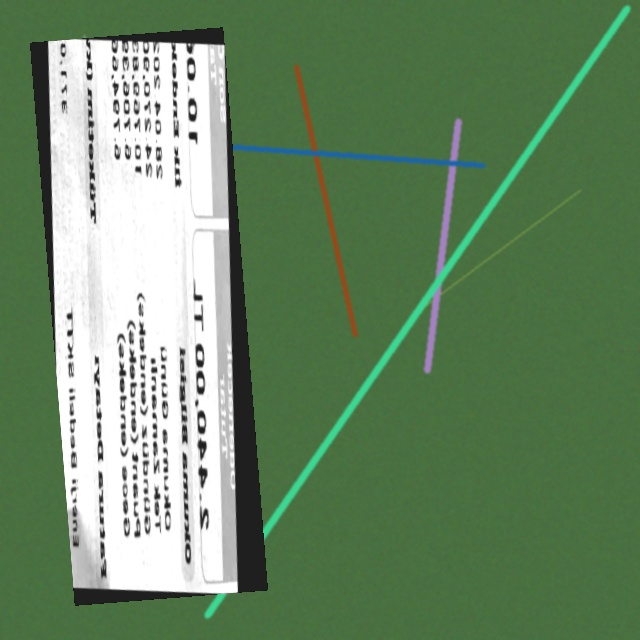electricity-bill: (29, 27, 267, 605)
